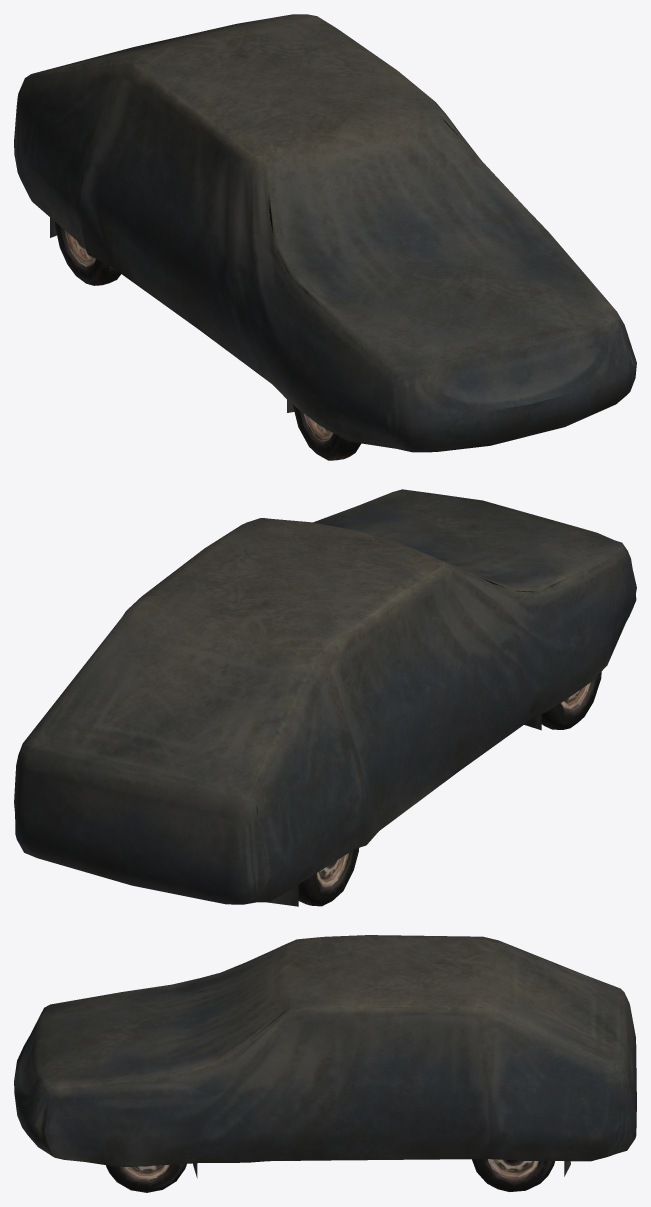
File: covered_car.glb
3 renders of one model, top to bottom at view 1: azimuth 30°, elevation 25°; view 2: azimuth 150°, elevation 25°; view 3: azimuth 270°, elevation 25°, orthographic. The views are drawn at different scales.
Visible parts, largest first — view 1: covered_car; view 2: covered_car; view 3: covered_car.
Boxes of the visible parts, x1=… form: covered_car: x1=14, y1=14, x2=636, y2=460; covered_car: x1=14, y1=489, x2=636, y2=906; covered_car: x1=14, y1=935, x2=636, y2=1192.
Size of the model in its own units: 1.79 by 1.41 by 4.37.
Materials: 1 (1 with a texture image).
